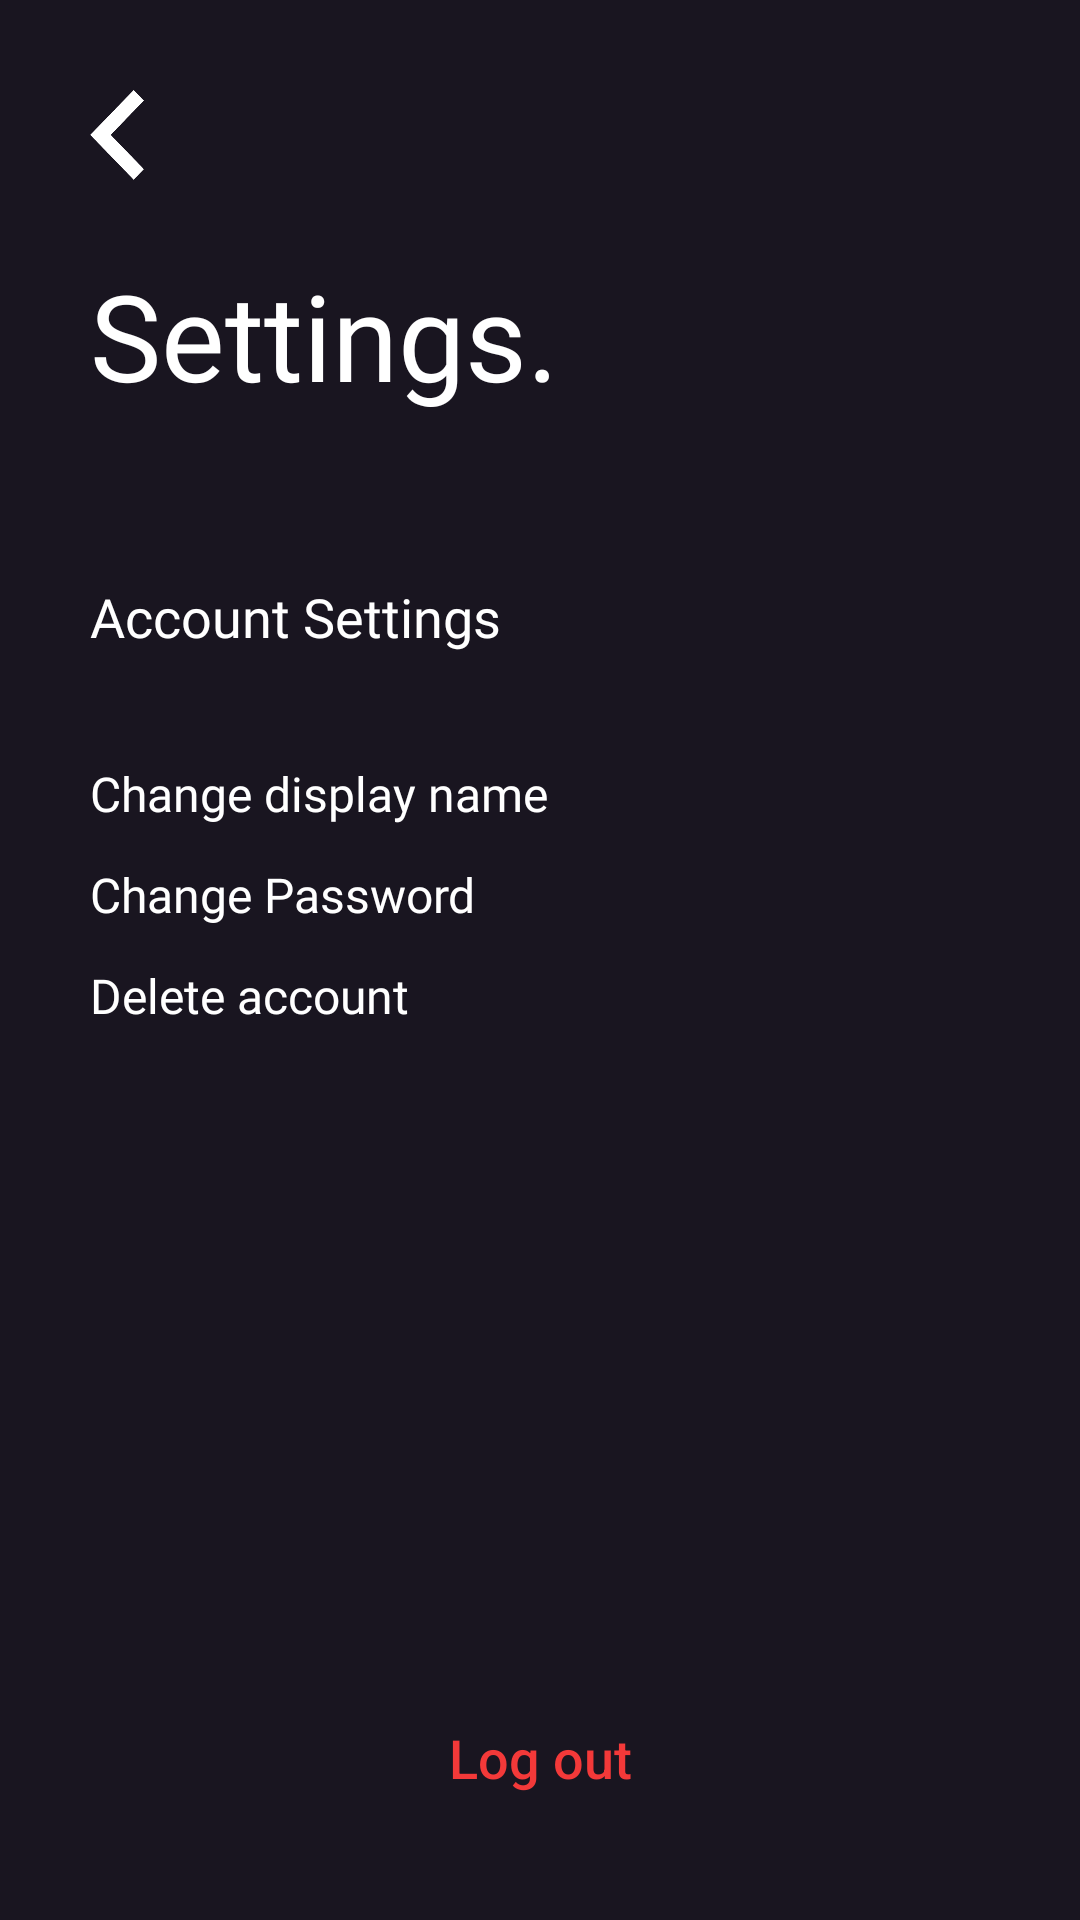

Icon click points for this 1080×1920 phone screenshot, format (x,y):
back: (117,135)
